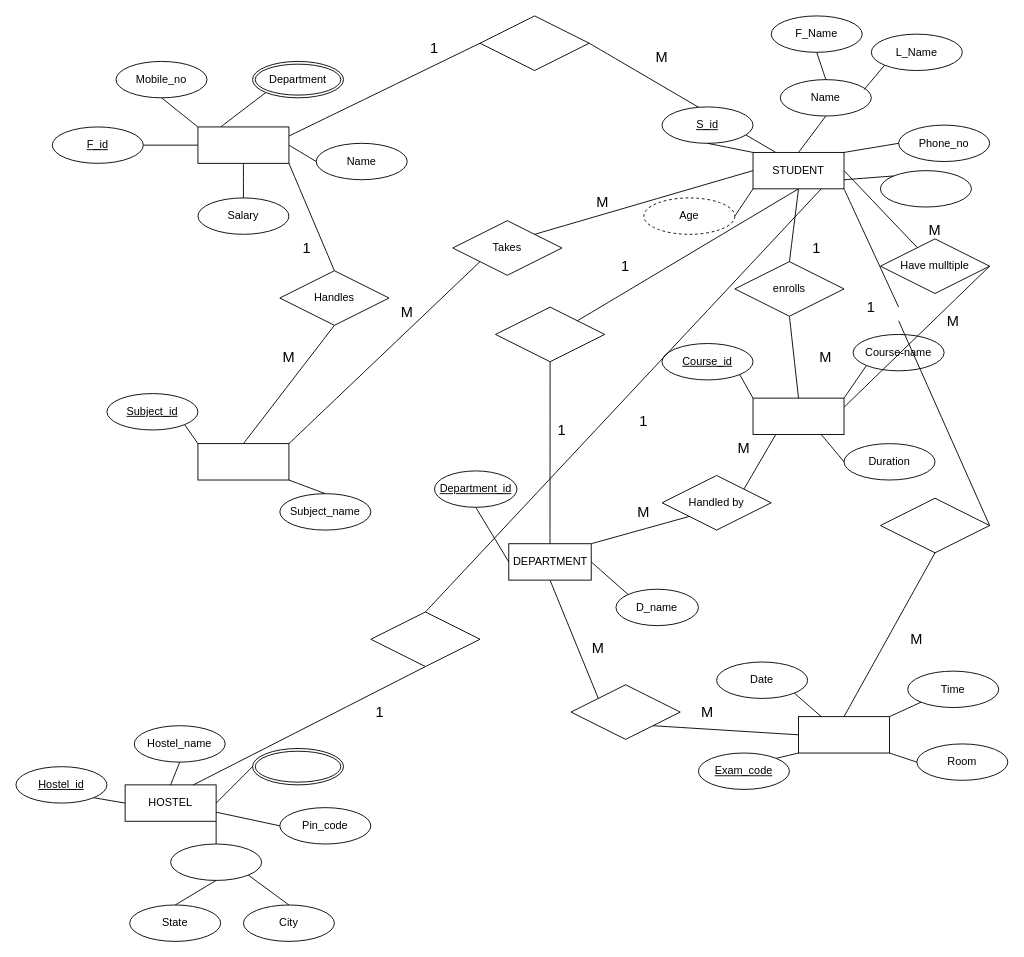
Some shapes in this 1024 by 957 pixel diagram are drawn without their labels. Each missing label, with the centre of its shape:
Address: point (216, 861)
Belong to: point (550, 334)
Can leave in: point (425, 639)
Can take: point (935, 525)
Conducted: point (625, 711)
COURSE: point (798, 416)
DOB: point (925, 188)
EXAMS: point (844, 734)
FACULTY: point (243, 144)
No_of_seats: point (298, 766)
SUBJECT: point (243, 461)
Teaches: point (534, 43)
